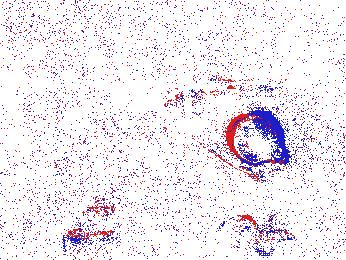flame jellyfish: (61, 197, 124, 260), (214, 212, 296, 260), (227, 109, 291, 168)
